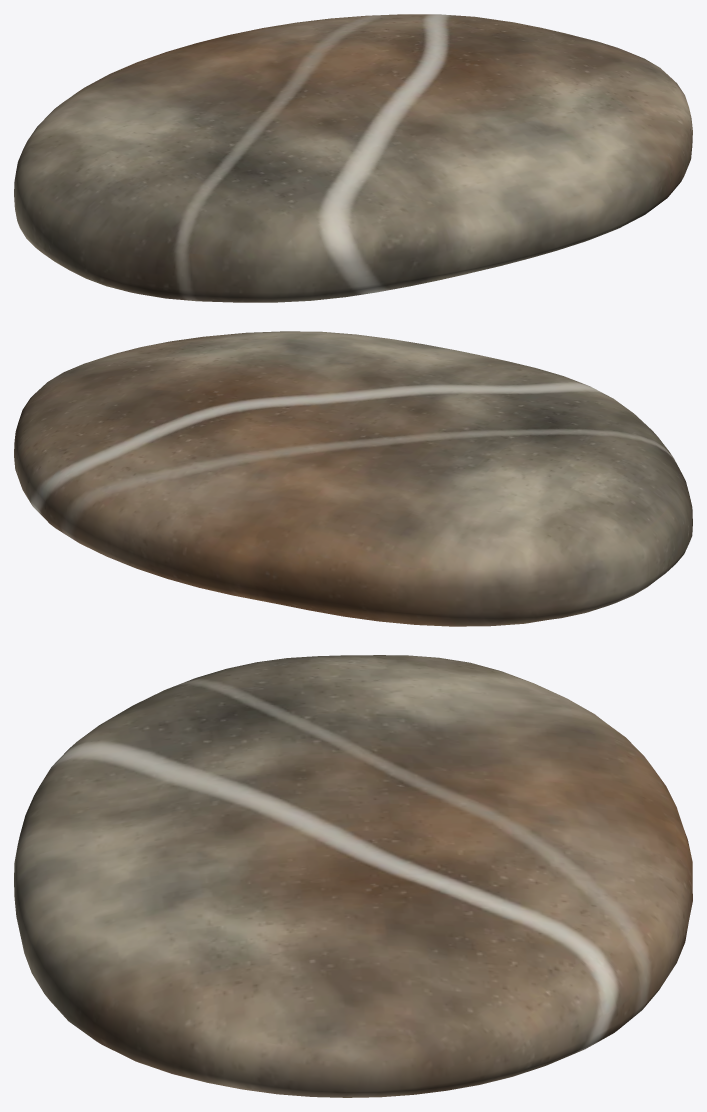
The model's file is stone.glb.
The picture shows the model from 3 angles, top to bottom: view 1: azimuth 30°, elevation 25°; view 2: azimuth 150°, elevation 25°; view 3: azimuth 270°, elevation 25°; orthographic projection. The views are drawn at different scales.
Visible parts, largest first — view 1: stone; view 2: stone; view 3: stone.
Part boxes in pixels (x1=…): stone: x1=14, y1=14, x2=692, y2=302; stone: x1=14, y1=331, x2=692, y2=626; stone: x1=14, y1=655, x2=692, y2=1097.
Bounding box in the file's own units: 0.901 × 0.1682 × 0.6623.
Materials: 1 (1 with a texture image).
